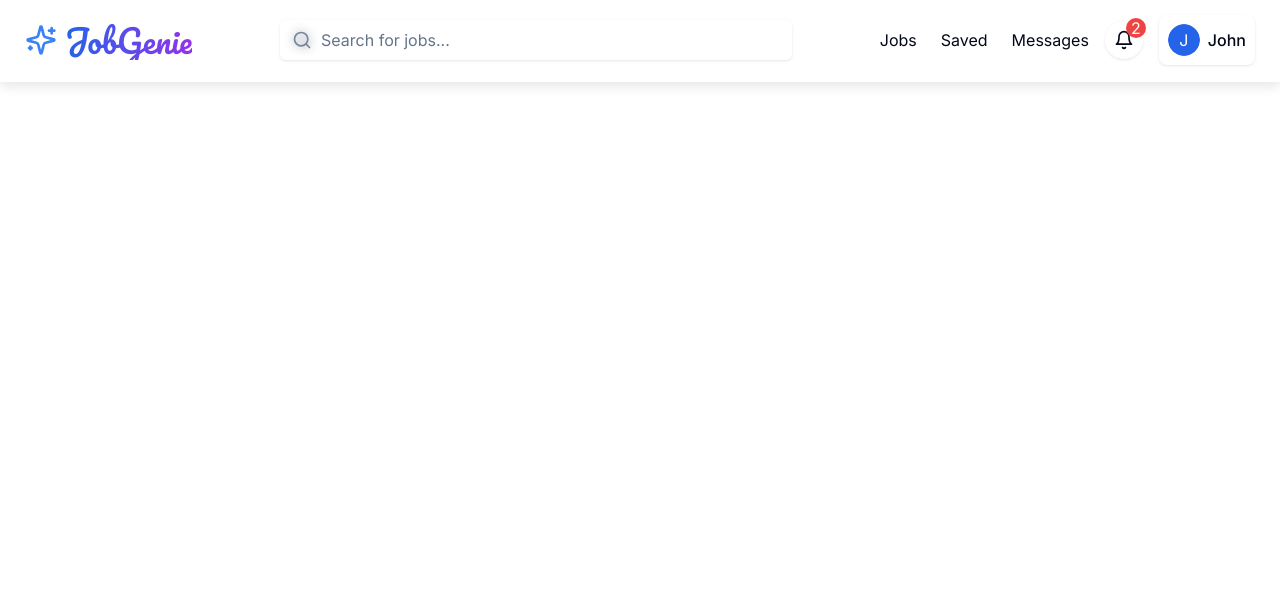
Test: Header Component › Authenticated State › opens notifications dropdown when clicked
Click the button named "notifications" at (1124, 40), box [1105, 21, 1143, 59]
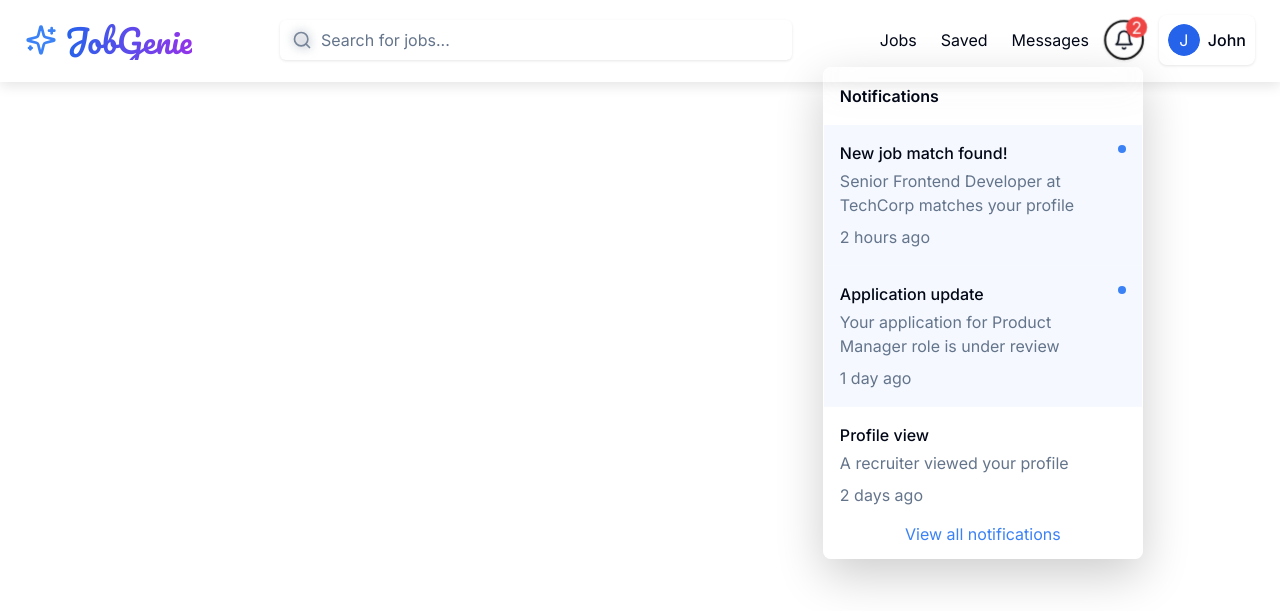
Check: the heading "Notifications" is shown, box [840, 86, 939, 106]
Check: the heading "New job match found!" is shown, box [840, 143, 1008, 163]
